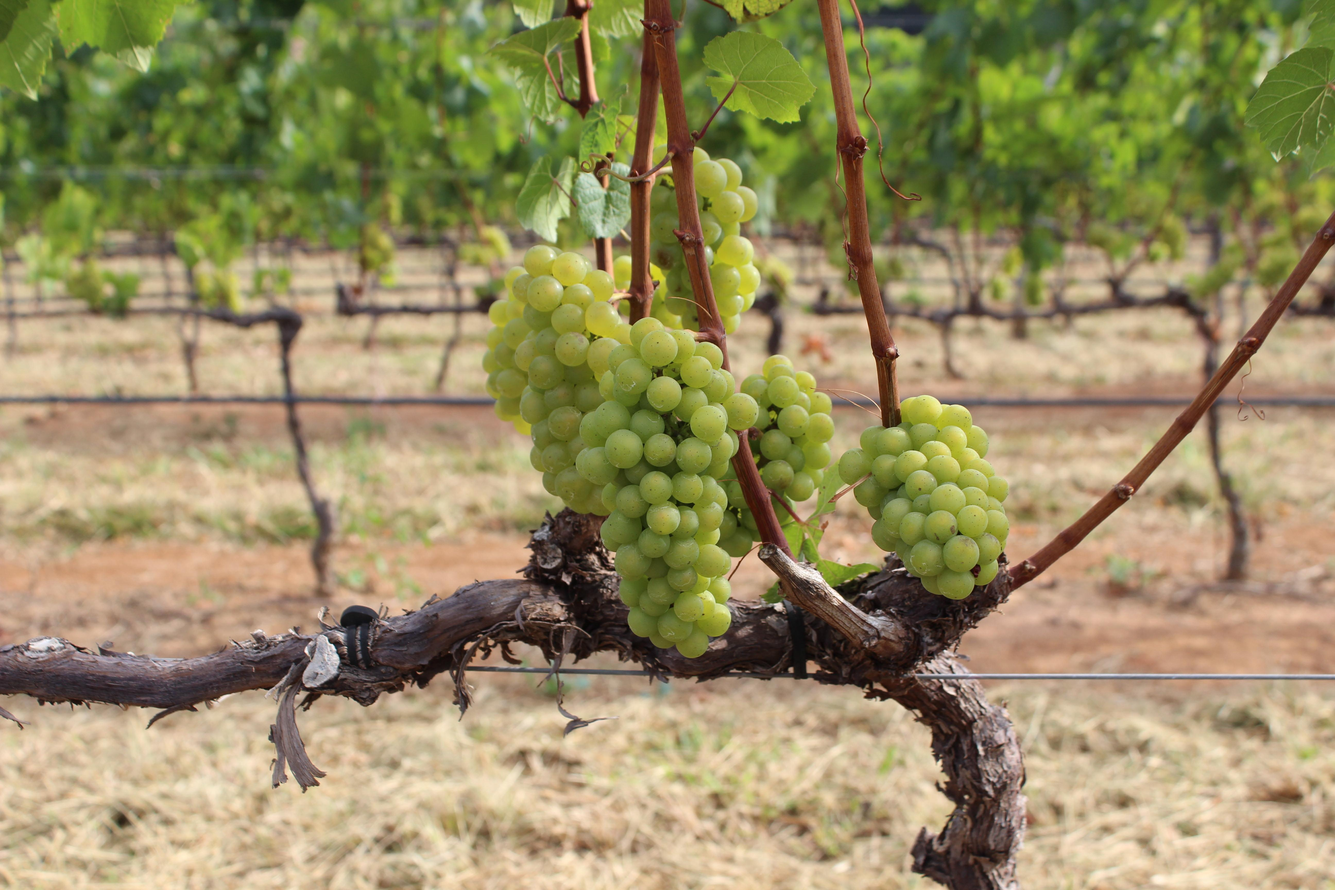leaf: (704, 31, 815, 122), (1245, 47, 1335, 157), (490, 18, 580, 121), (56, 0, 178, 70), (0, 0, 58, 99), (516, 156, 576, 241), (573, 173, 631, 237), (578, 101, 620, 162), (588, 0, 643, 37), (817, 559, 880, 586), (511, 0, 555, 28), (0, 0, 29, 42), (611, 162, 629, 176)
